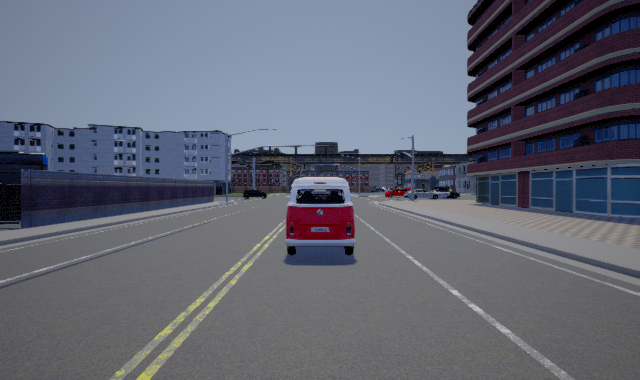vehicle: (285, 177, 356, 255), (414, 186, 461, 200), (370, 187, 411, 200), (241, 187, 270, 200)
